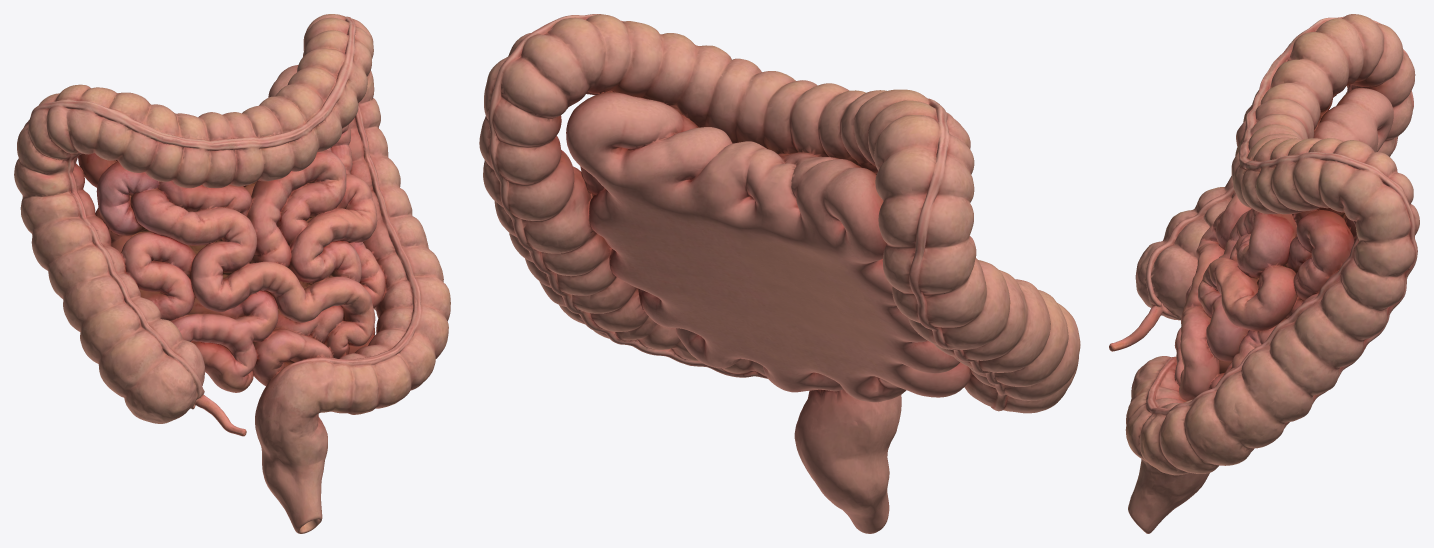
The model's file is intestine-v2.glb.
3 views of the same model, side by side, from view 1: azimuth 30°, elevation 25°; view 2: azimuth 150°, elevation 25°; view 3: azimuth 270°, elevation 25° (orthographic). The views are drawn at different scales.
Parts seen in each view (by area): view 1: tripo_node_a4f32823-6211-4fd0-9d87-9c4b75d03aad; view 2: tripo_node_a4f32823-6211-4fd0-9d87-9c4b75d03aad; view 3: tripo_node_a4f32823-6211-4fd0-9d87-9c4b75d03aad.
Boxes of the visible parts, <box> form: tripo_node_a4f32823-6211-4fd0-9d87-9c4b75d03aad: <box>14,14,450,533</box>; tripo_node_a4f32823-6211-4fd0-9d87-9c4b75d03aad: <box>479,14,1080,533</box>; tripo_node_a4f32823-6211-4fd0-9d87-9c4b75d03aad: <box>1109,14,1419,533</box>.
Bounding box in the file's own units: 0.9128 × 1 × 0.6212.
1 material, 1 textured.
